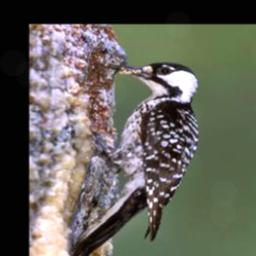Woodpecker: (73, 61, 202, 256)
